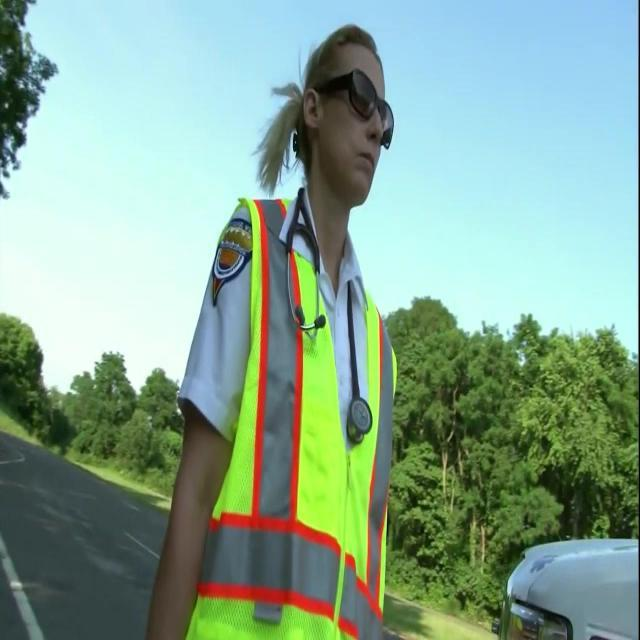NoHelmet: (277, 24, 397, 198)
Vest: (204, 200, 402, 640)
